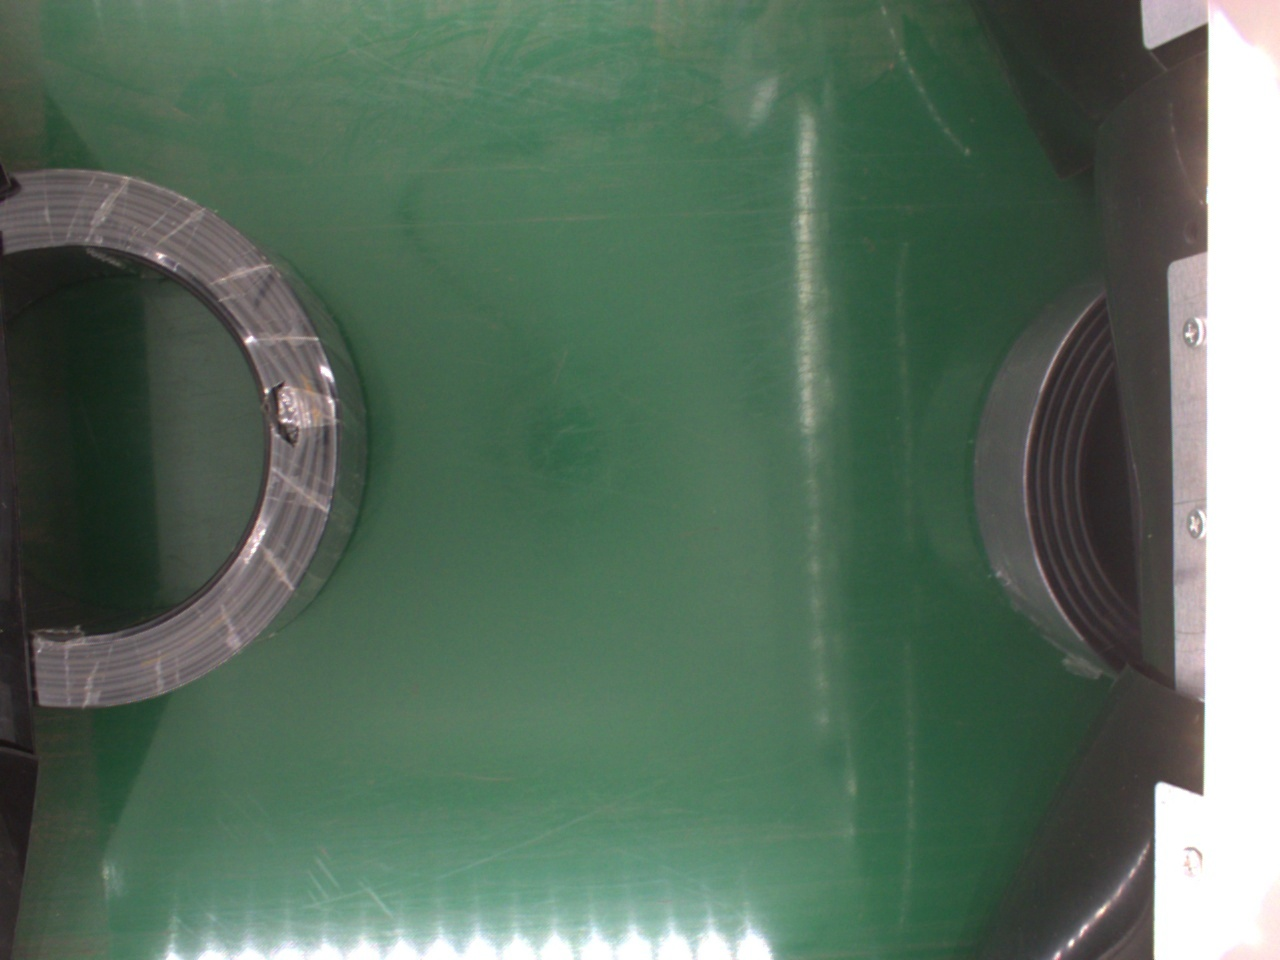black: (9, 167, 371, 709), (973, 278, 1142, 680)
